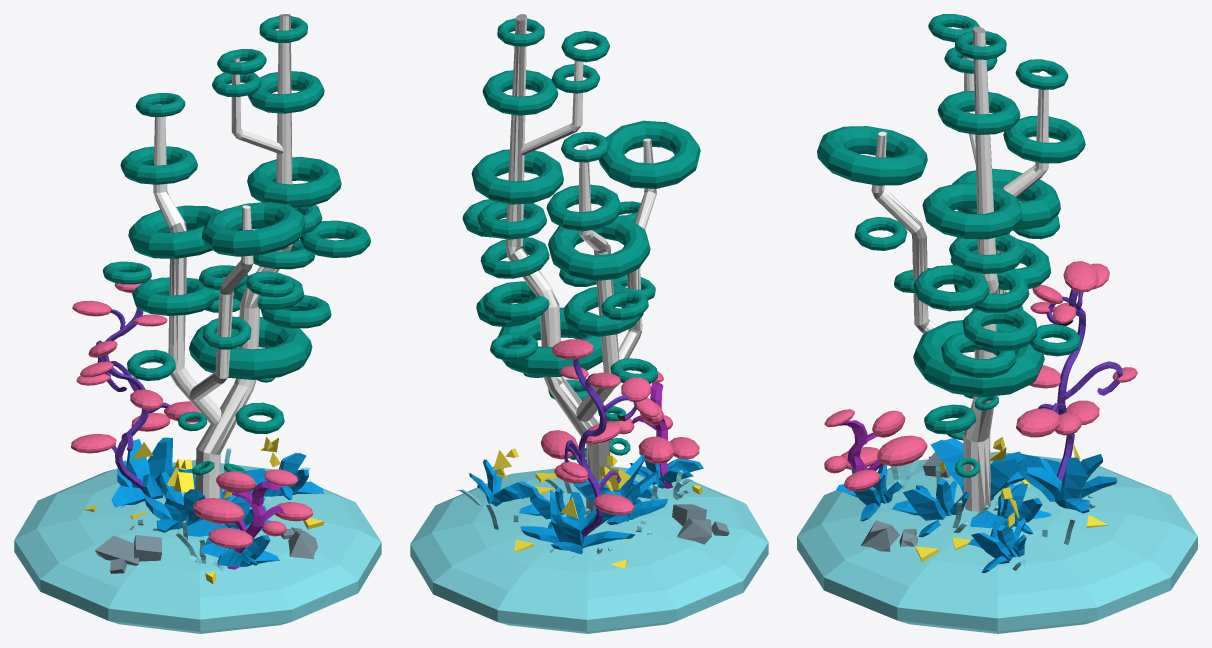
Rendered from plantA.fbx.
3 renders of one model, left to right at view 1: azimuth 30°, elevation 25°; view 2: azimuth 150°, elevation 25°; view 3: azimuth 270°, elevation 25°, orthographic. The views are drawn at different scales.
Parts seen in each view (by area): view 1: plant, group_1673951575, group_602178960, group_352203744, group_1727027793, group_921818917, group_258056978, group_142990747; view 2: plant, group_602178960, group_1673951575, group_352203744, group_1727027793, group_258056978, group_921818917, group_217678861; view 3: plant, group_1673951575, group_602178960, group_352203744, group_142990747, group_1727027793, group_217678861, group_258056978, group_921818917.
Part boxes in pixels (bbox=[...]): plant: bbox=[14, 14, 381, 633]; group_1673951575: bbox=[193, 469, 312, 569]; group_602178960: bbox=[111, 437, 183, 507]; group_352203744: bbox=[96, 293, 170, 497]; group_1727027793: bbox=[145, 469, 205, 532]; group_921818917: bbox=[200, 522, 279, 566]; group_258056978: bbox=[246, 452, 323, 499]; group_142990747: bbox=[187, 489, 270, 544]; plant: bbox=[410, 14, 768, 633]; group_602178960: bbox=[520, 489, 635, 554]; group_1673951575: bbox=[606, 371, 699, 488]; group_352203744: bbox=[564, 359, 636, 537]; group_1727027793: bbox=[574, 454, 667, 524]; group_258056978: bbox=[469, 459, 539, 506]; group_921818917: bbox=[630, 446, 703, 488]; group_217678861: bbox=[519, 487, 564, 529]; plant: bbox=[797, 14, 1197, 633]; group_1673951575: bbox=[824, 409, 927, 491]; group_602178960: bbox=[1018, 454, 1117, 513]; group_352203744: bbox=[1038, 289, 1122, 481]; group_142990747: bbox=[892, 478, 969, 537]; group_1727027793: bbox=[930, 438, 1025, 500]; group_217678861: bbox=[970, 483, 1051, 537]; group_258056978: bbox=[968, 518, 1026, 572]; group_921818917: bbox=[836, 464, 902, 521].
Bounding box in the file's own units: 182 × 307 × 188.
